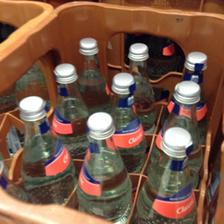water: (74, 110, 136, 224), (17, 94, 77, 205), (136, 128, 195, 224), (145, 84, 205, 178), (105, 71, 148, 171), (49, 65, 93, 153), (77, 33, 111, 113), (127, 42, 155, 131)
